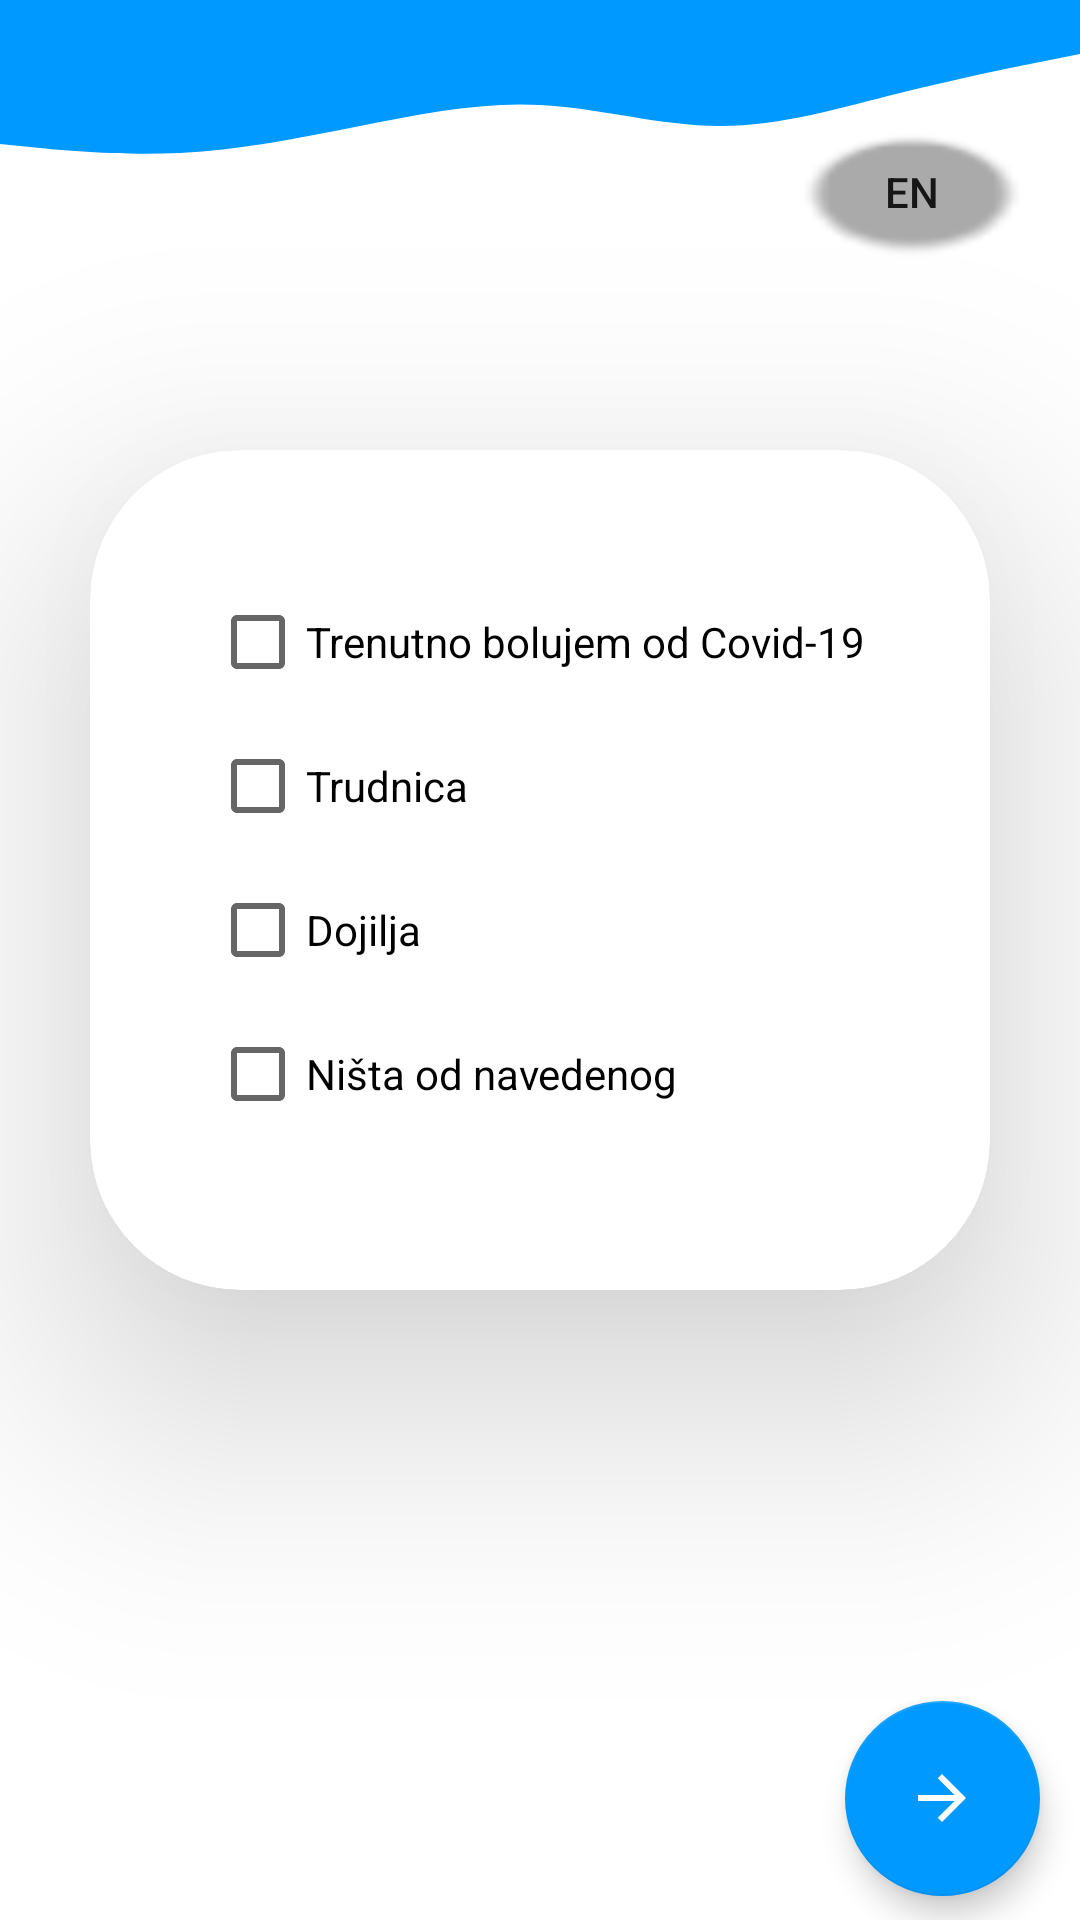

Named icons in this screenshot (1080w x 1920h) and their bounding boxes, (x1, y1, x2, y2):
arrow forward: (845, 1701, 1040, 1896)
